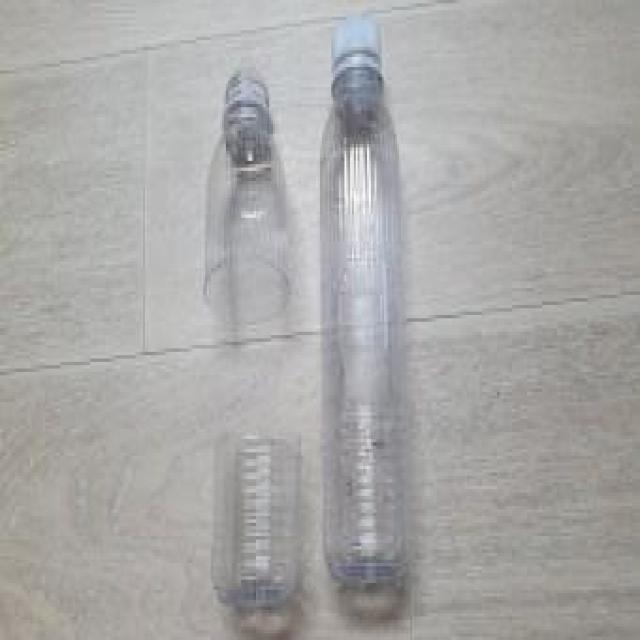bottle: (315, 16, 417, 588), (202, 71, 304, 614)
